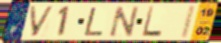1: (56, 5, 71, 38)
I: (178, 4, 198, 40)
L: (140, 6, 164, 38), (83, 7, 106, 37)
N: (109, 5, 141, 39)
V: (28, 5, 57, 38)
